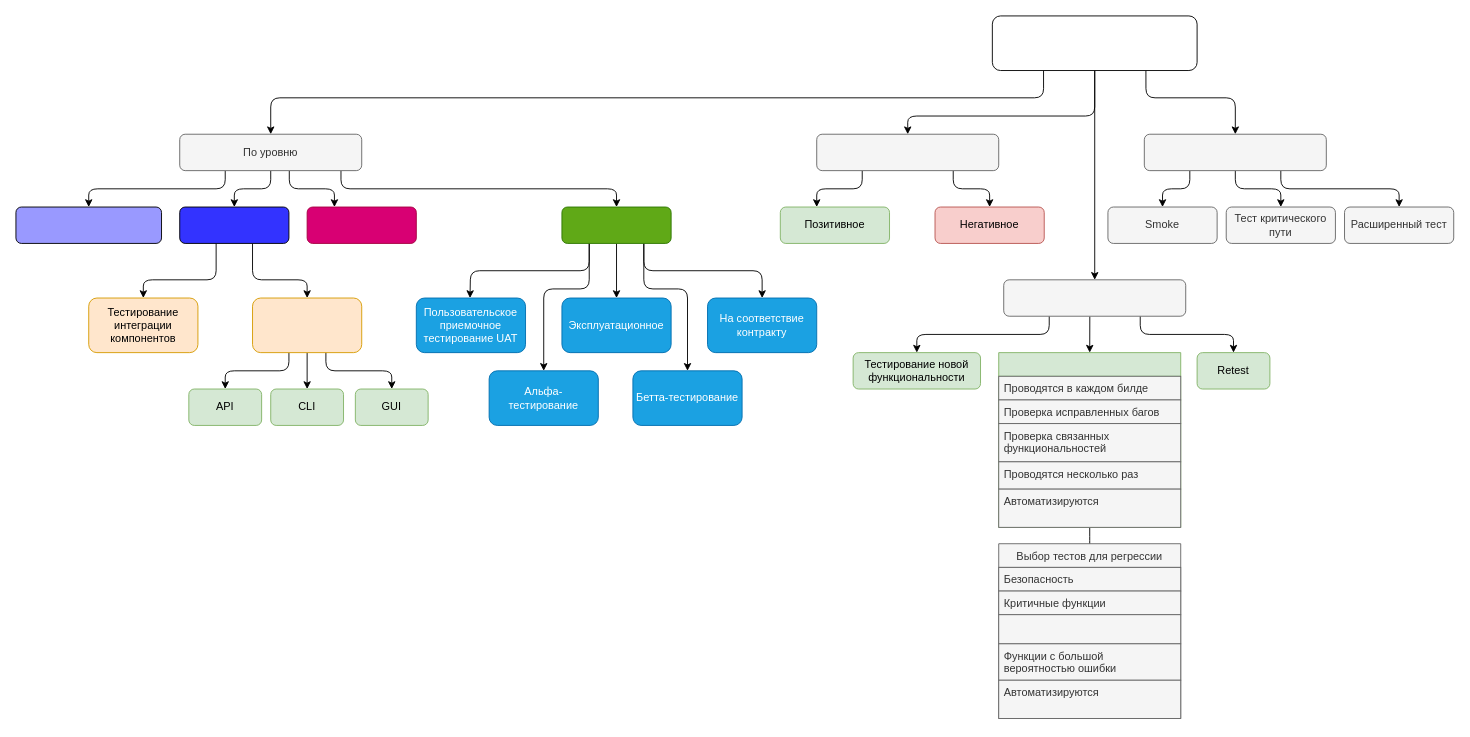
The diagram is 1470 pixels wide and 737 high, and some of its shapes have lost their labels. Each missing label, with the box of its shape:
Regression: (998, 352, 1181, 527)
Интеграционное: (179, 206, 289, 243)
Классификация тестирования: (991, 15, 1197, 71)
Компонентное / Модульное / Юнит тестирование: (15, 206, 162, 243)
По позитивности: (816, 133, 999, 171)
По степени важности: (1143, 133, 1326, 171)
По цели: (1003, 279, 1186, 316)
Приемочное: (561, 206, 671, 243)
Системное: (306, 206, 416, 243)
Системное интеграционное тестирование: (252, 297, 362, 353)
Часто изменяемые функции: (998, 614, 1181, 644)
